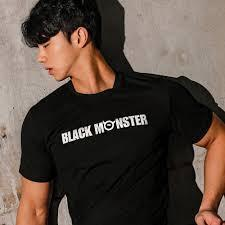Tshirt: (7, 68, 224, 225)
